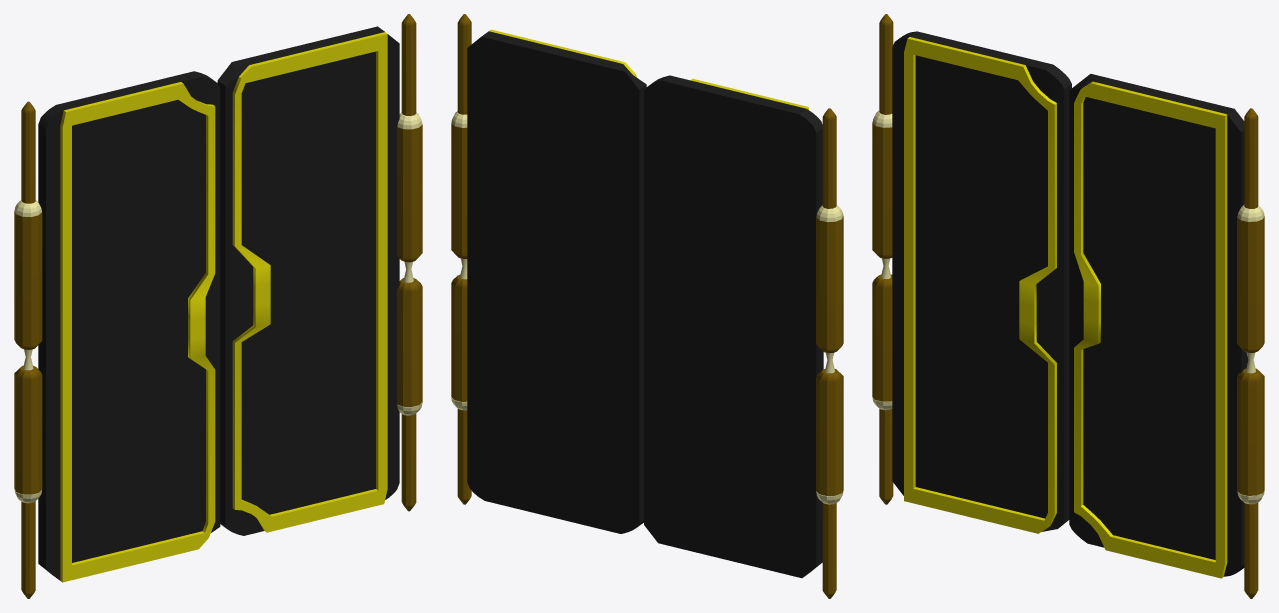
The model's file is Door_FBX.fbx.
3 views of the same model, side by side, from view 1: azimuth 30°, elevation 25°; view 2: azimuth 150°, elevation 25°; view 3: azimuth 330°, elevation 25° (orthographic).
Parts seen in each view (by area): view 1: DoorSide, DoorSide1, polySurface4 (×2), polySurface5 (×2), polySurface6 (×2), polySurface7 (×2); view 2: DoorSide1, DoorSide, polySurface4 (×2), polySurface5 (×2), polySurface6 (×2), polySurface7 (×2); view 3: DoorSide, DoorSide1, polySurface4 (×2), polySurface5 (×2), polySurface6 (×2), polySurface7 (×2).
Boxes of the visible parts, box(x1,y1,x2,y2) form: DoorSide: box(38, 71, 220, 582); DoorSide1: box(217, 26, 399, 535); polySurface4 (×2): box(14, 124, 422, 349); polySurface5 (×2): box(14, 278, 422, 494); polySurface6 (×2): box(21, 14, 416, 203); polySurface7 (×2): box(21, 413, 416, 598); DoorSide1: box(467, 29, 646, 533); DoorSide: box(644, 75, 823, 578); polySurface4 (×2): box(451, 123, 843, 353); polySurface5 (×2): box(451, 274, 843, 495); polySurface6 (×2): box(457, 14, 836, 208); polySurface7 (×2): box(457, 408, 836, 598); DoorSide: box(892, 31, 1071, 533); DoorSide1: box(1069, 74, 1248, 578); polySurface4 (×2): box(872, 122, 1264, 352); polySurface5 (×2): box(872, 274, 1264, 495); polySurface6 (×2): box(879, 14, 1258, 208); polySurface7 (×2): box(879, 409, 1258, 598).
Size of the model in its own units: 9.13 by 10.83 by 0.8006.
